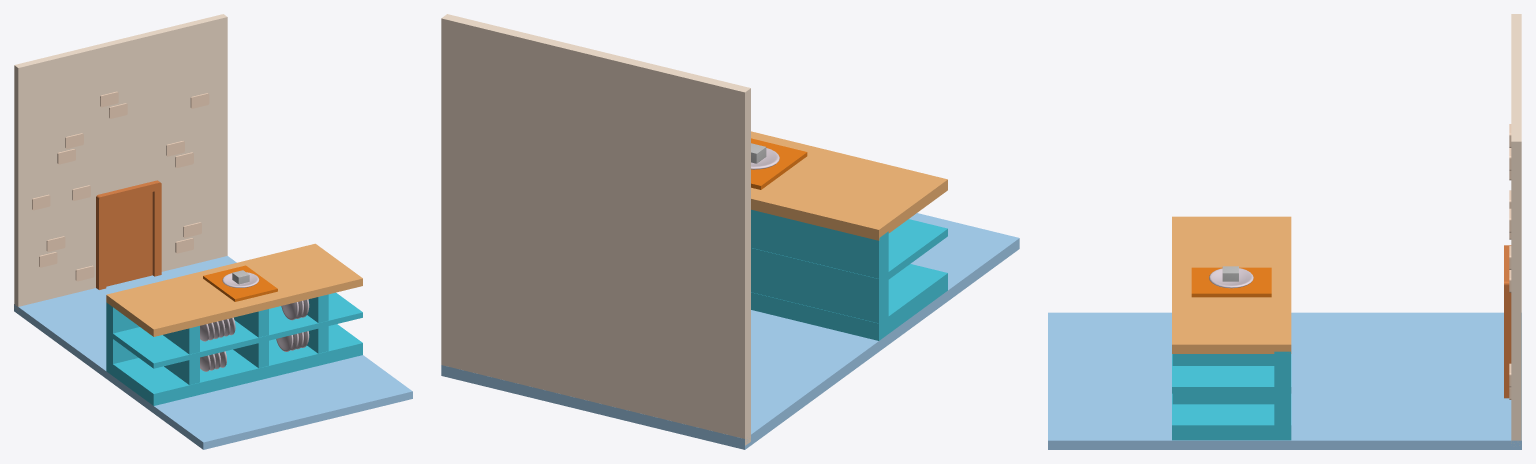
The picture shows the model from 3 angles, left to right: view 1: azimuth 30°, elevation 25°; view 2: azimuth 150°, elevation 25°; view 3: azimuth 270°, elevation 25°; orthographic projection. The views are drawn at different scales.
Parts seen in each view (by area): view 1: QM, G, DM, M, G1, G2, G3, W1, W4, W2, W3; view 2: QM, G, DM; view 3: DM, G, QM, G3, M, w.
Part boxes in pixels (x1,y1,x2,y2): QM: (14,14,227,310); G: (106,243,362,405); DM: (14,256,412,449); M: (96,180,161,289); G1: (163,326,199,384); G2: (233,309,268,368); G3: (307,294,328,353); W1: (200,317,235,341); W4: (276,331,309,351); W2: (281,299,309,320); W3: (200,351,226,371); QM: (441,14,750,445); G: (751,131,947,340); DM: (441,213,1019,449); DM: (1048,312,1521,449); G: (1172,216,1291,440); QM: (1509,14,1521,445); G3: (1172,354,1274,404); M: (1504,245,1511,398); w: (1209,268,1253,288).
Size of the model in its own units: 95.17 by 107 by 149.
